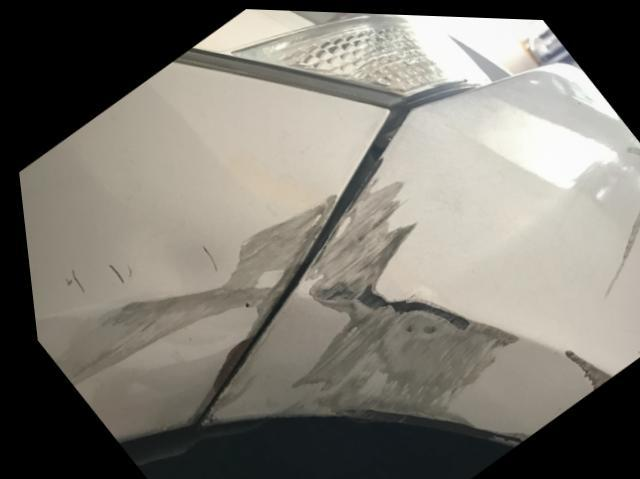scratch: (188, 151, 529, 443), (40, 190, 335, 422), (596, 183, 640, 296)
